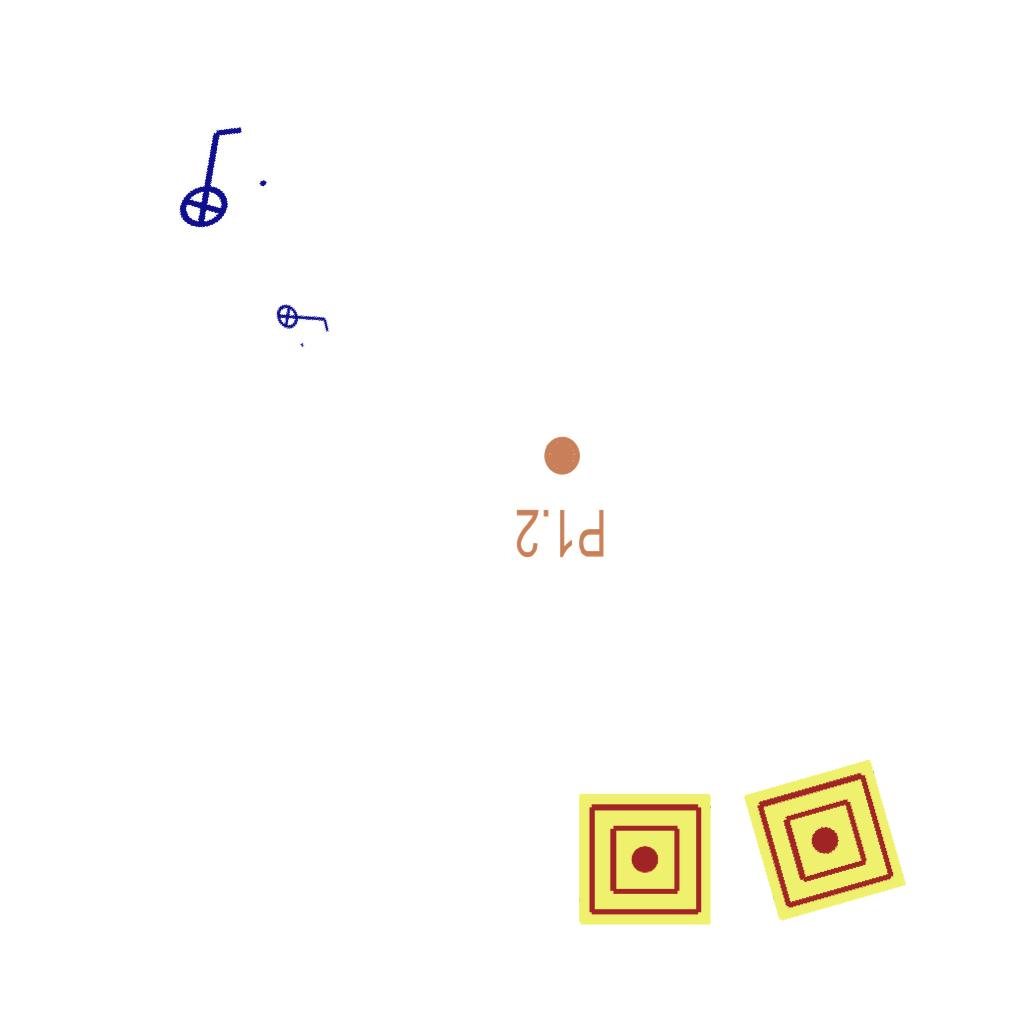Ausschalter_beleuchtet: (140, 110, 280, 242), (268, 282, 338, 354)
Downlight_LED_Einbauleuchten_Flur: (514, 433, 607, 561)
NAM-Nichtautomatischer_Melder: (743, 758, 907, 922), (579, 793, 711, 925)
